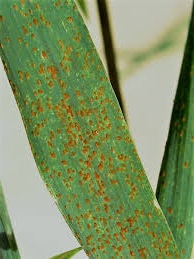Leaf Rust: (17, 48, 157, 244)
